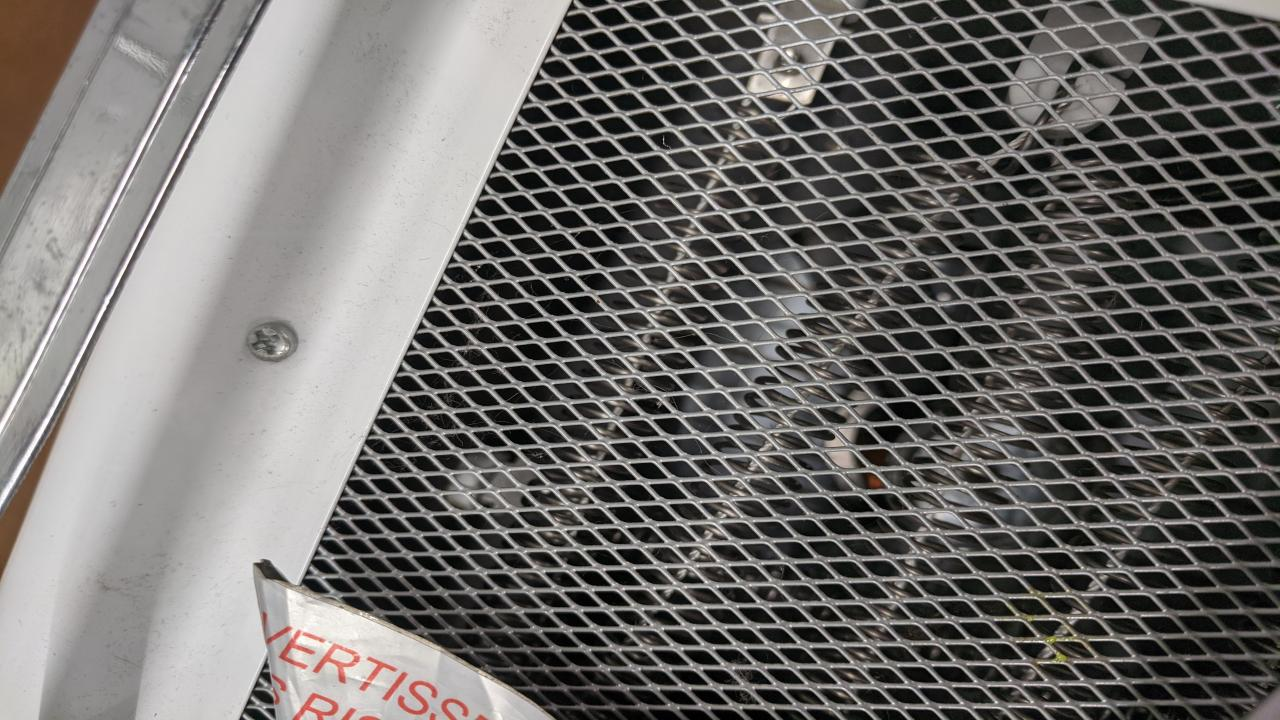CRS: (233, 320, 307, 364)
